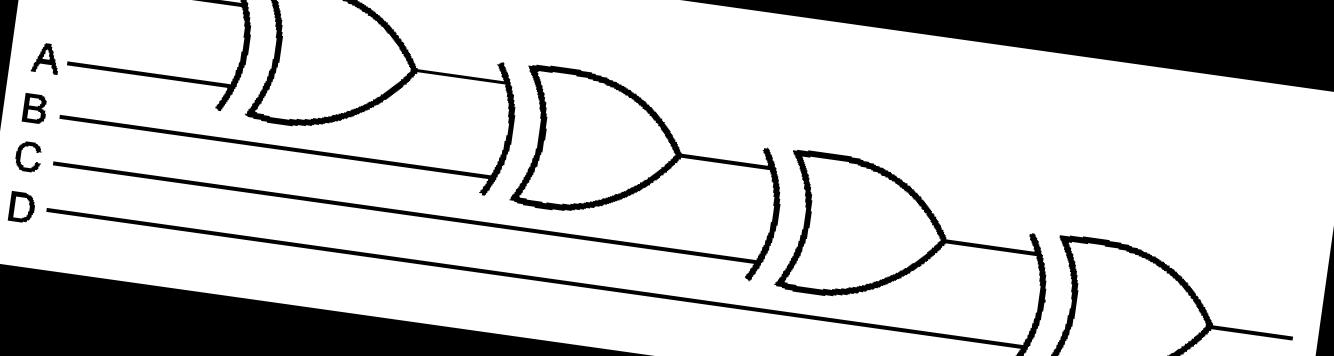xor: (705, 117, 988, 329), (436, 36, 723, 245), (972, 193, 1258, 356), (162, 0, 446, 159)
